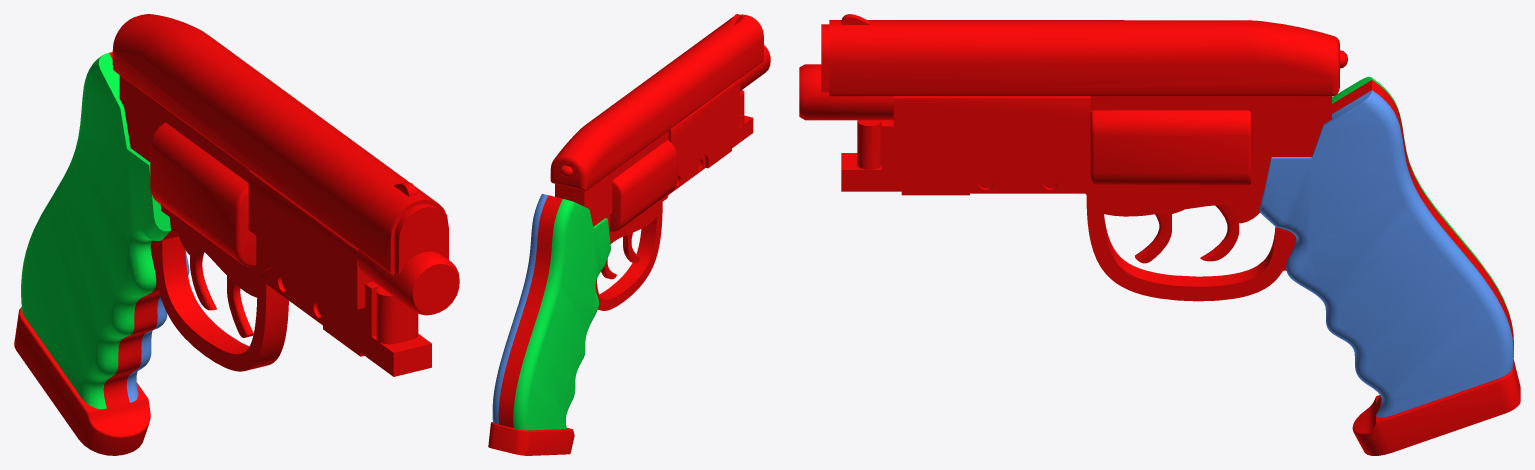
The model's file is Blaster_UV.fbx.
3 views of the same model, side by side, from view 1: azimuth 30°, elevation 25°; view 2: azimuth 150°, elevation 25°; view 3: azimuth 270°, elevation 25° (orthographic). The views are drawn at different scales.
Parts seen in each view (by area): view 1: Blaster_BladeRunnerBlaster_v5_MAIN__1__BladeRunnerBlaster_v5, Blaster_BladeRunnerBlaster_v5_GRIP__1__BladeRunnerBlaster_v5 (×2); view 2: Blaster_BladeRunnerBlaster_v5_MAIN__1__BladeRunnerBlaster_v5, Blaster_BladeRunnerBlaster_v5_GRIP__1__BladeRunnerBlaster_v5 (×2); view 3: Blaster_BladeRunnerBlaster_v5_MAIN__1__BladeRunnerBlaster_v5, Blaster_BladeRunnerBlaster_v5_GRIP__1__BladeRunnerBlaster_v5 (×2).
Part boxes in pixels (left/top/right/bottom): Blaster_BladeRunnerBlaster_v5_MAIN__1__BladeRunnerBlaster_v5: left=14, top=14, right=459, bottom=455; Blaster_BladeRunnerBlaster_v5_GRIP__1__BladeRunnerBlaster_v5 (×2): left=21, top=53, right=189, bottom=409; Blaster_BladeRunnerBlaster_v5_MAIN__1__BladeRunnerBlaster_v5: left=488, top=14, right=770, bottom=455; Blaster_BladeRunnerBlaster_v5_GRIP__1__BladeRunnerBlaster_v5 (×2): left=492, top=194, right=610, bottom=430; Blaster_BladeRunnerBlaster_v5_MAIN__1__BladeRunnerBlaster_v5: left=799, top=14, right=1520, bottom=455; Blaster_BladeRunnerBlaster_v5_GRIP__1__BladeRunnerBlaster_v5 (×2): left=1259, top=76, right=1513, bottom=417.
Size of the model in its own units: 200 by 1189 by 1795.
